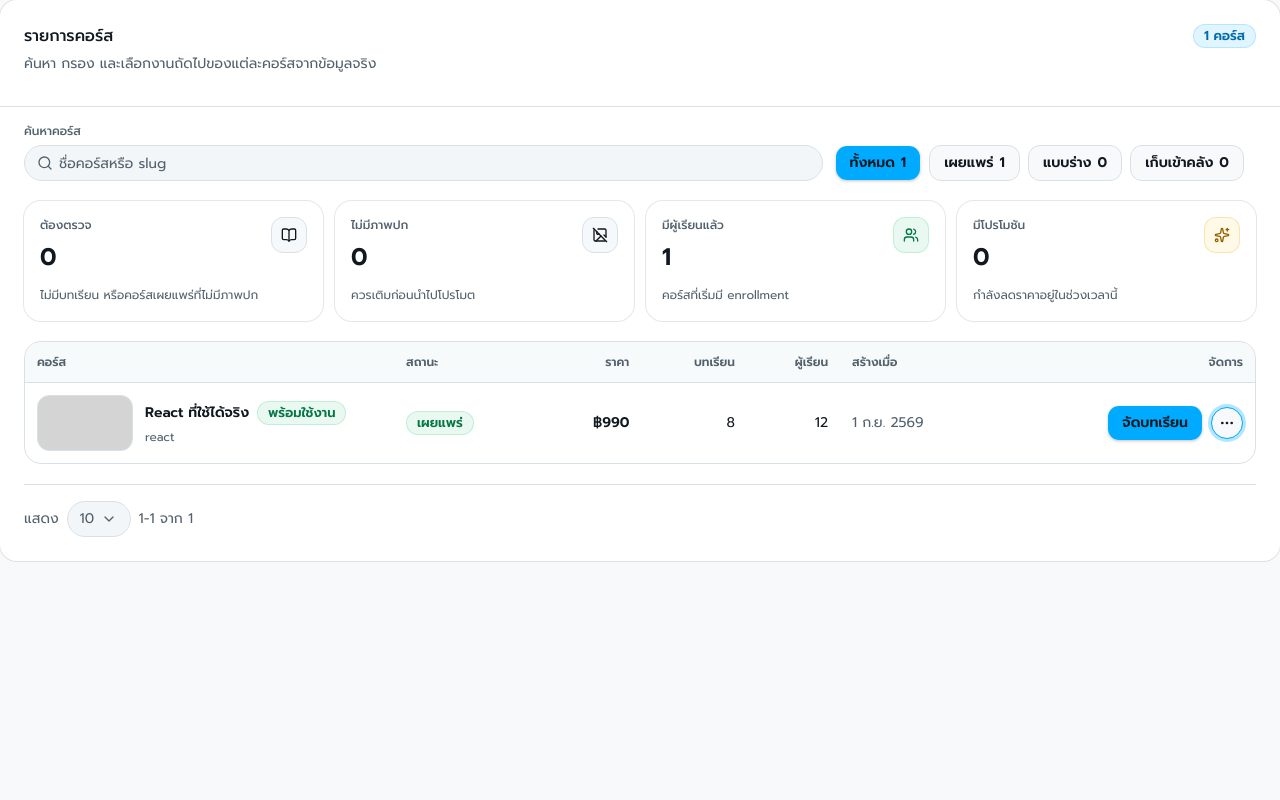
AdminCoursesTable row actions › asks for confirmation before a status change chosen from the menu
Press Enter
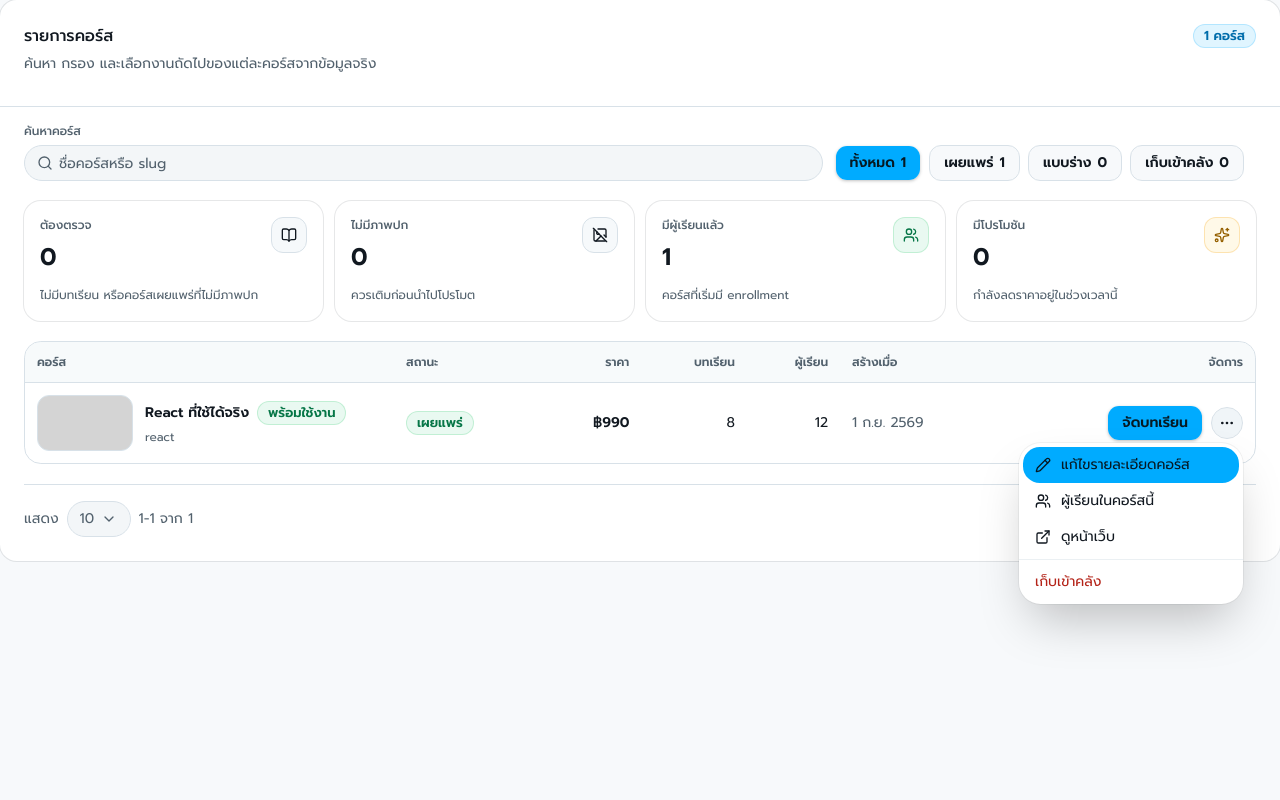
Click the menu item "เก็บเข้าคลัง": (1068, 582) x1=1035 y1=571 x2=1101 y2=592
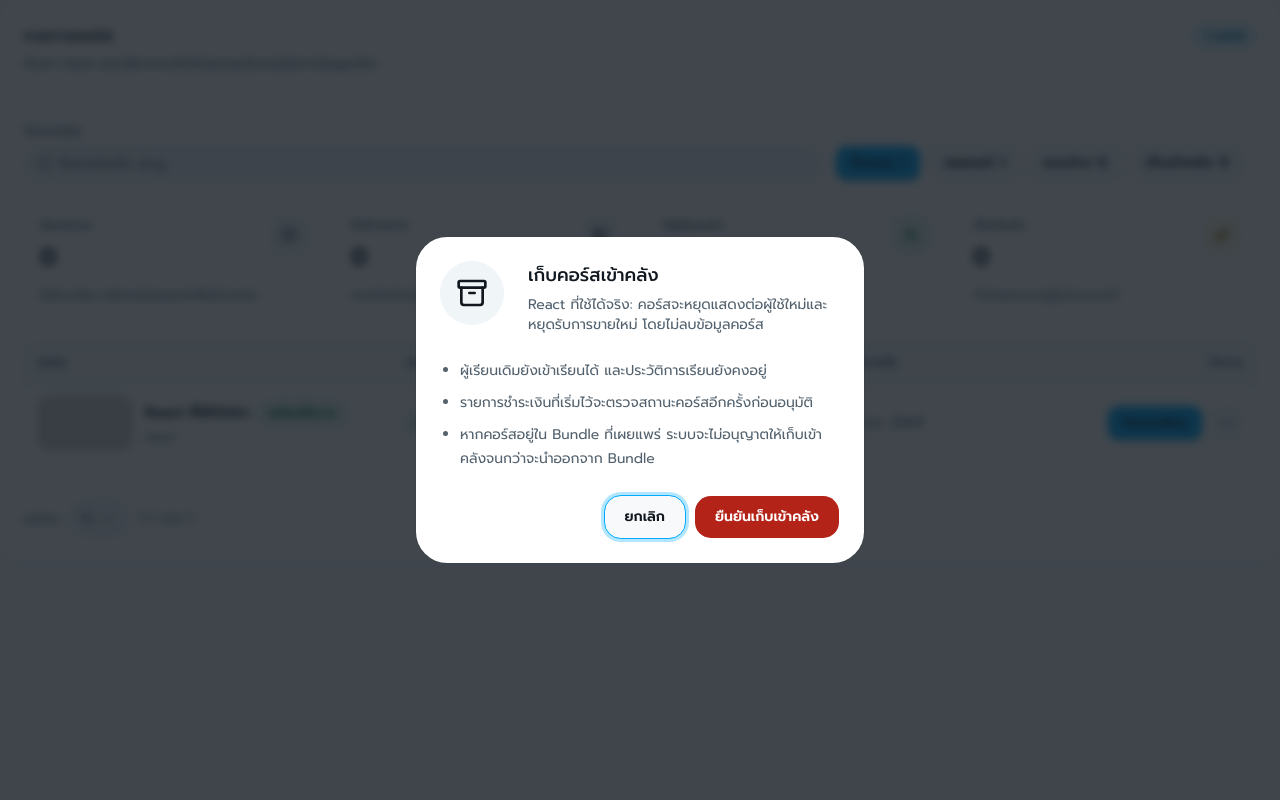
Check: the heading "เก็บคอร์สเข้าคลัง" is shown, box x1=528 y1=261 x2=659 y2=289
Check: the button "ยืนยันเก็บเข้าคลัง" is shown, box x1=694 y1=495 x2=840 y2=539
